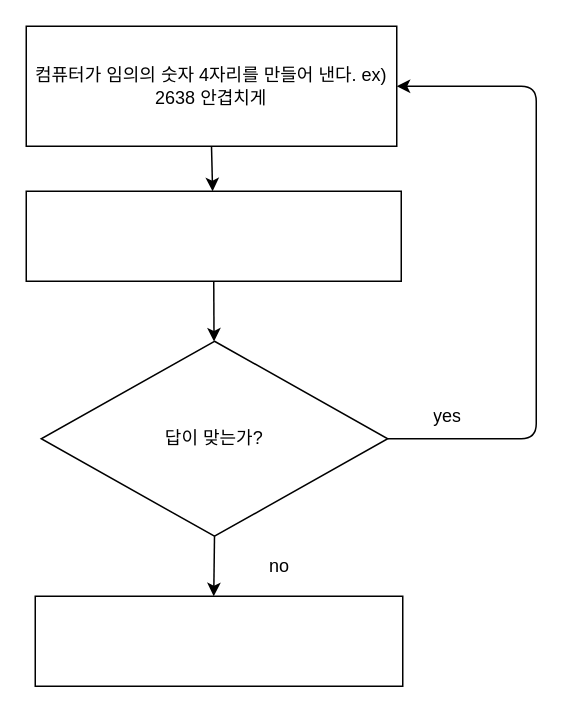
The diagram is 575 pixels wide and 713 high, and some of its shapes have lost their labels. Here are the shapes that lost their labels. From the top down, the centre of each, then its label:
At point (213, 235): "답을 입력한다.".
At point (218, 640): "스트라이크,볼을 알려준다.".
